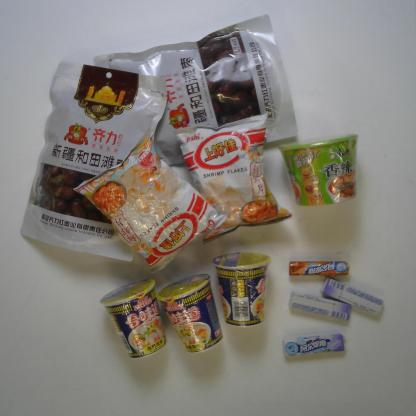Candy: (319, 276, 385, 319), (286, 288, 354, 323), (280, 331, 347, 360), (286, 258, 352, 279)
Dried Food: (90, 12, 300, 168), (19, 57, 170, 265)
Instant Noodles: (278, 133, 364, 209), (97, 274, 169, 362), (154, 269, 224, 357), (210, 249, 272, 329)
Puffed Food: (71, 130, 231, 277), (172, 110, 295, 246)
